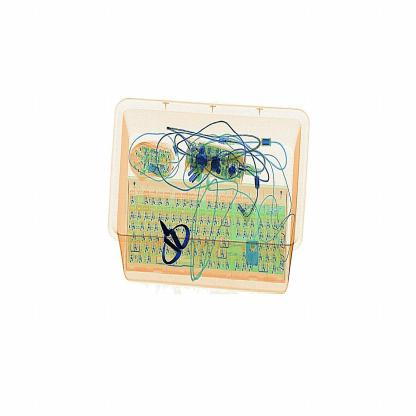gun: (153, 214, 192, 276)
